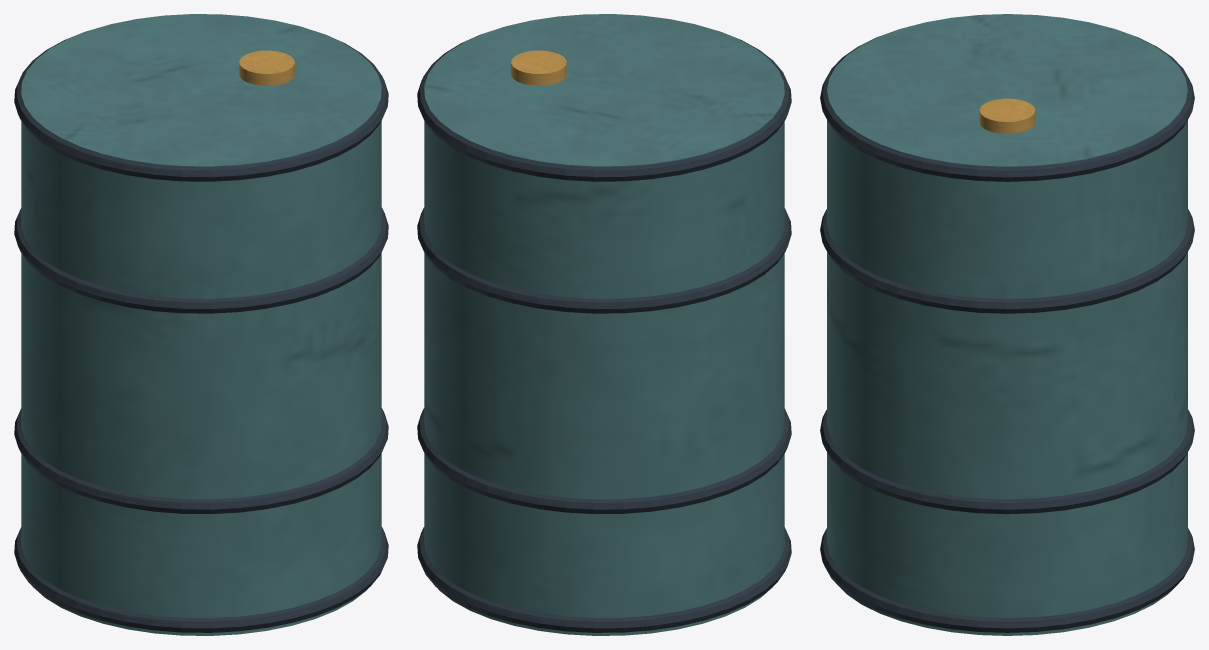
File: OilDrum.glb
3 renders of one model, left to right at view 1: azimuth 30°, elevation 25°; view 2: azimuth 150°, elevation 25°; view 3: azimuth 270°, elevation 25°, orthographic.
Parts seen in each view (by area): view 1: Drum, Rolled seam.003, Rolled seam.002, Rolled seam, Rolled seam.001, Bung; view 2: Drum, Rolled seam.003, Rolled seam.002, Rolled seam, Rolled seam.001, Bung; view 3: Drum, Rolled seam.003, Rolled seam.001, Rolled seam.002, Rolled seam, Bung.
Boxes of the visible parts, bbox=[...] form: Drum: bbox=[21, 14, 381, 635]; Rolled seam.003: bbox=[14, 31, 388, 181]; Rolled seam.002: bbox=[14, 207, 388, 313]; Rolled seam: bbox=[14, 527, 388, 632]; Rolled seam.001: bbox=[14, 408, 388, 514]; Bung: bbox=[239, 50, 294, 85]; Drum: bbox=[424, 14, 784, 635]; Rolled seam.003: bbox=[417, 31, 791, 181]; Rolled seam.002: bbox=[417, 207, 791, 313]; Rolled seam: bbox=[417, 527, 791, 632]; Rolled seam.001: bbox=[417, 408, 791, 514]; Bung: bbox=[511, 50, 566, 85]; Drum: bbox=[827, 14, 1187, 635]; Rolled seam.003: bbox=[820, 29, 1194, 181]; Rolled seam.001: bbox=[820, 409, 1194, 514]; Rolled seam.002: bbox=[820, 209, 1194, 313]; Rolled seam: bbox=[820, 528, 1194, 632]; Bung: bbox=[979, 98, 1035, 133].
Bounding box in the file's own units: 0.644 × 0.9125 × 0.644.
Materials: 3 (3 with a texture image).
